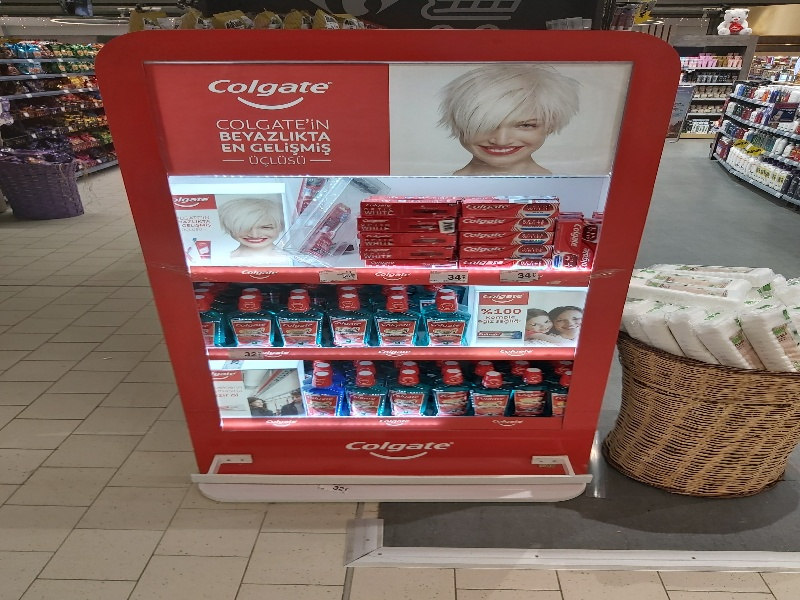urun: (229, 285, 273, 349), (279, 283, 323, 347), (328, 283, 372, 347), (373, 281, 417, 345), (423, 287, 467, 351), (354, 187, 457, 213), (348, 211, 451, 237), (356, 230, 459, 256), (345, 355, 381, 425), (390, 357, 428, 423), (434, 357, 472, 423), (470, 355, 508, 421), (460, 192, 563, 216), (515, 353, 548, 423), (464, 210, 567, 231), (464, 225, 567, 246), (466, 243, 569, 264), (193, 284, 225, 350), (305, 355, 337, 421)
